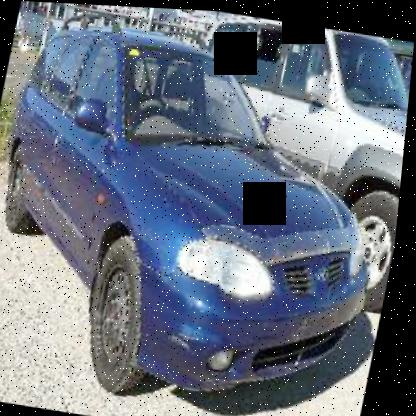not_emergency: (0, 7, 414, 408)
